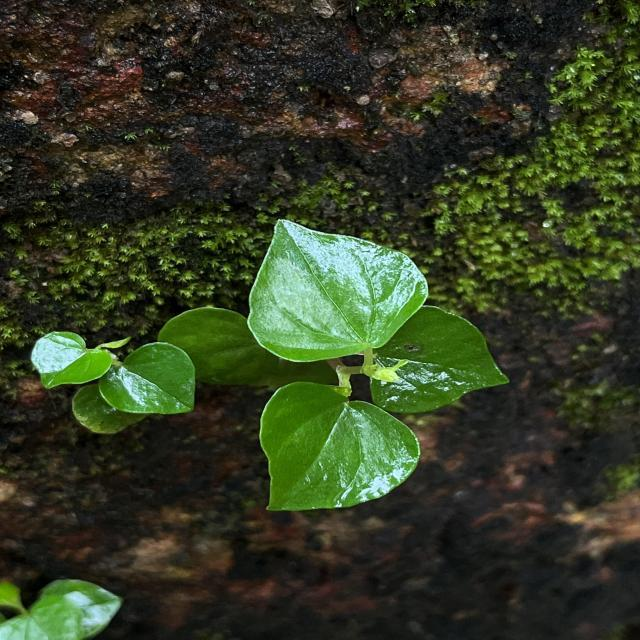Peperomia pellucida: (244, 218, 430, 364), (257, 380, 422, 513)
